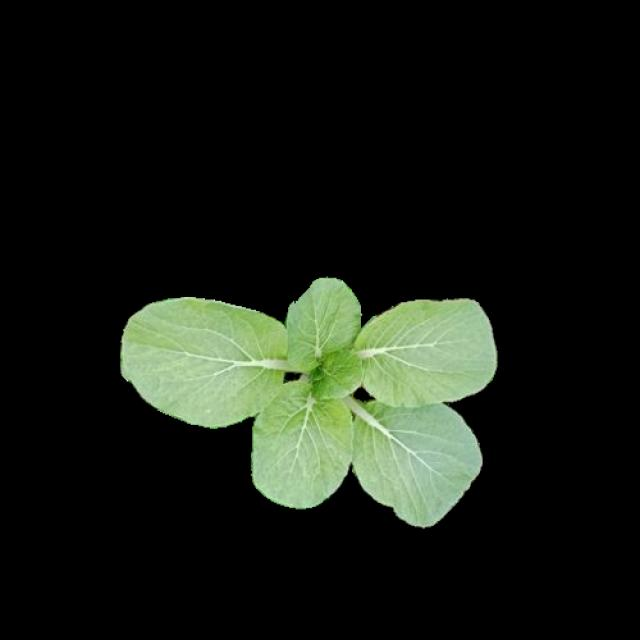healthy: (118, 273, 493, 522)
not-mature: (120, 275, 496, 525)
